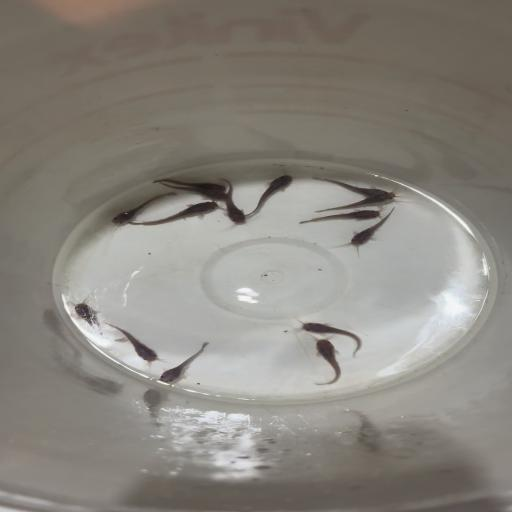lele: (294, 317, 369, 359), (64, 297, 126, 343), (131, 200, 223, 230), (102, 321, 163, 365), (346, 206, 402, 253), (103, 191, 180, 225), (246, 171, 298, 221), (156, 340, 211, 386), (311, 190, 403, 214), (306, 336, 347, 386), (145, 182, 233, 204), (296, 207, 387, 228), (312, 173, 389, 197), (214, 177, 250, 225), (152, 170, 232, 190)
